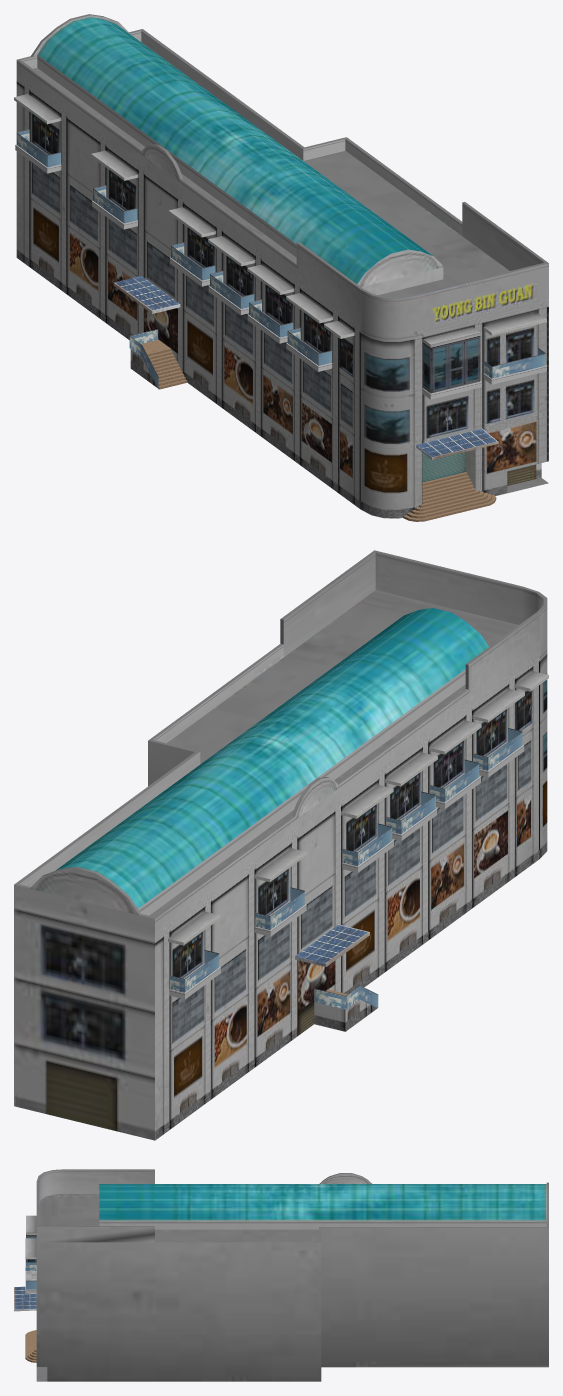
3 views of the same model, one above another, from view 1: azimuth 30°, elevation 25°; view 2: azimuth 150°, elevation 25°; view 3: azimuth 270°, elevation 25° (orthographic). The views are drawn at different scales.
Parts seen in each view (by area): view 1: 5d68da956e7fd60560dee337.001; view 2: 5d68da956e7fd60560dee337.001; view 3: 5d68da956e7fd60560dee337.001.
Boxes of the visible parts, x1,y1,x2,y2 form: 5d68da956e7fd60560dee337.001: (14, 14, 548, 521); 5d68da956e7fd60560dee337.001: (14, 550, 548, 1140); 5d68da956e7fd60560dee337.001: (14, 1169, 548, 1381).
Bounding box in the file's own units: 14.05 × 15.4 × 47.
Materials: 1 (1 with a texture image).
